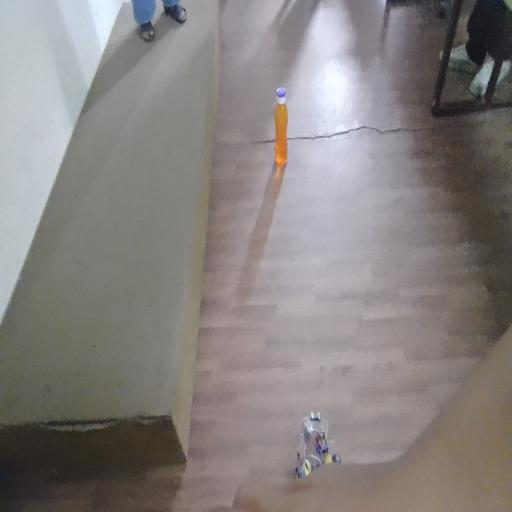Bottle: (269, 81, 293, 178)
car: (287, 400, 339, 466)
